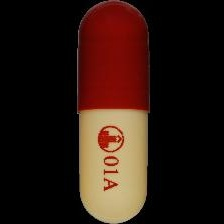0597-0001: (0, 0, 224, 224)
